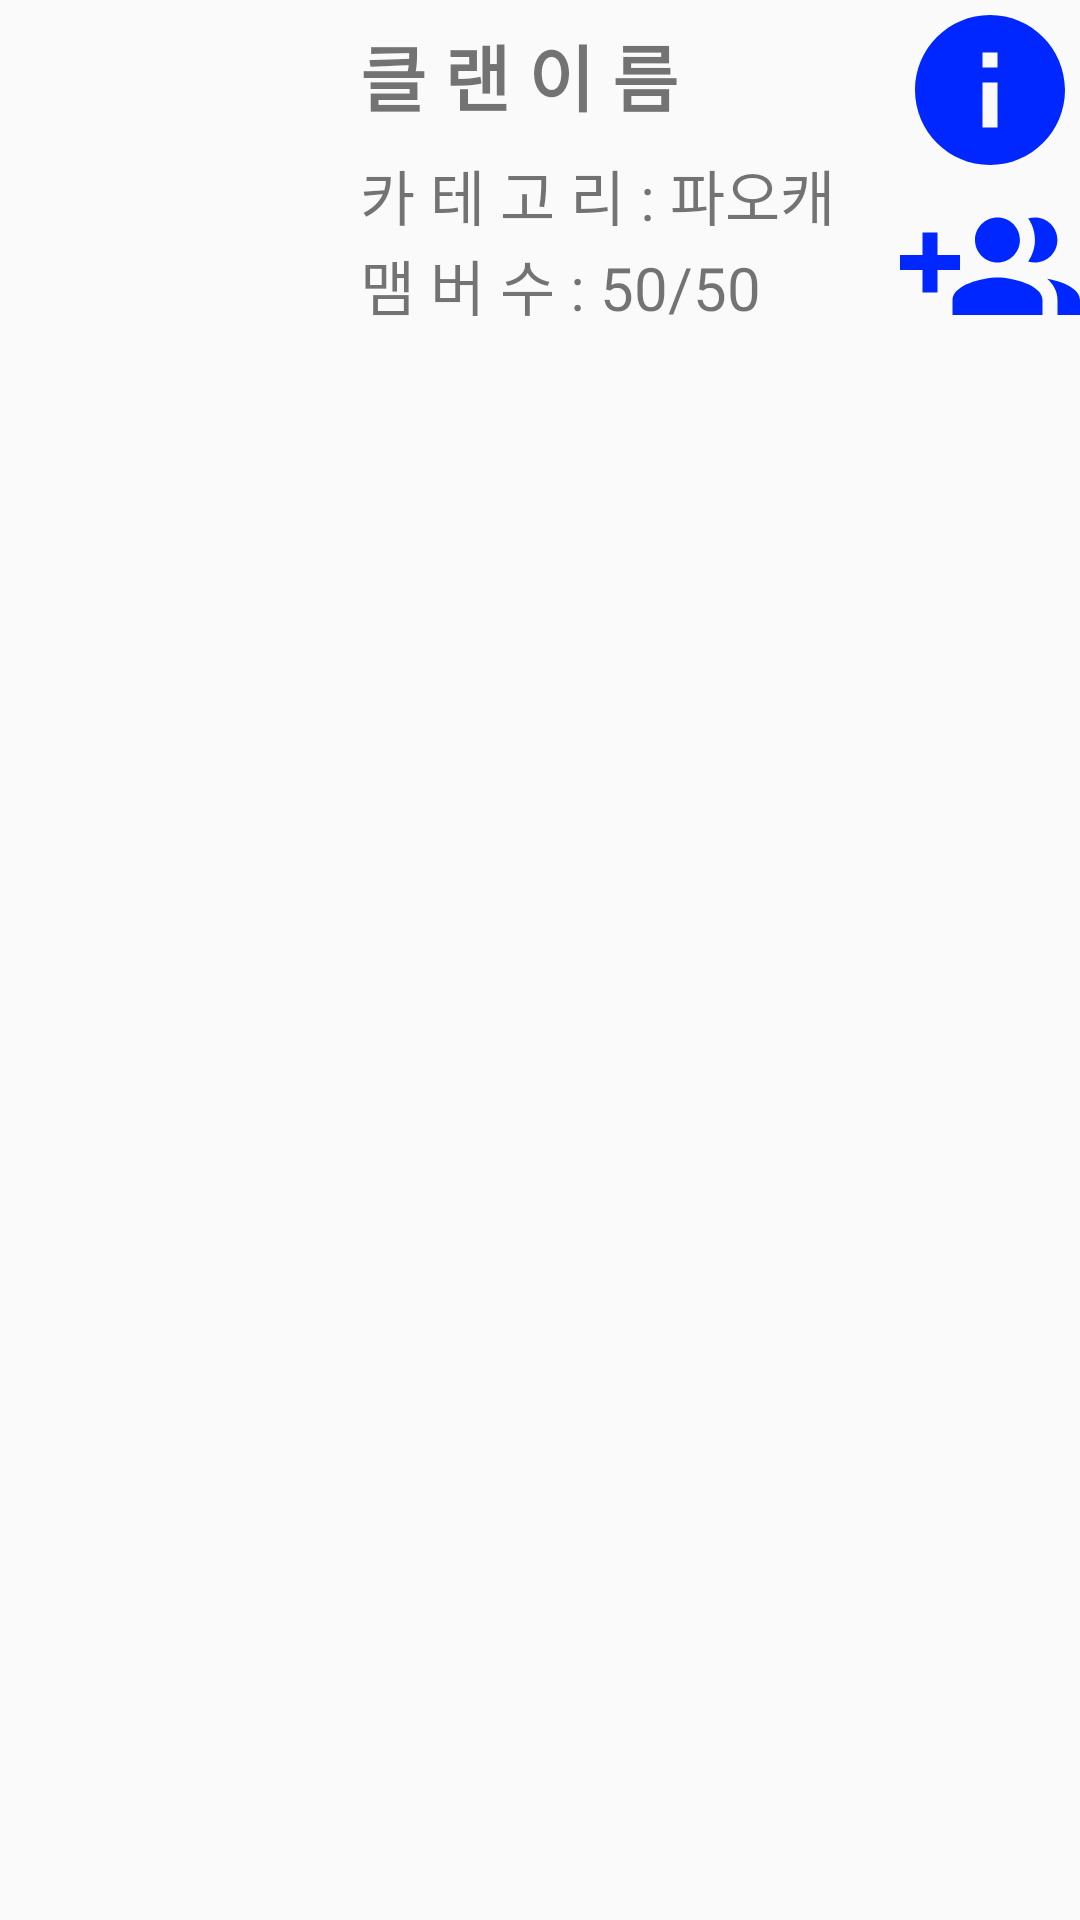

Named icons in this screenshot (1080x1920) and their bounding boxes, [x1,y1,x2,y2]:
group add: [900,217,1080,315]
info: [915,15,1065,165]
